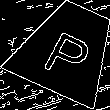P_NE: (38, 19, 97, 80)
